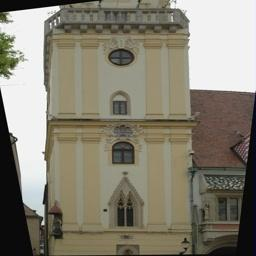building: (37, 0, 192, 256)
